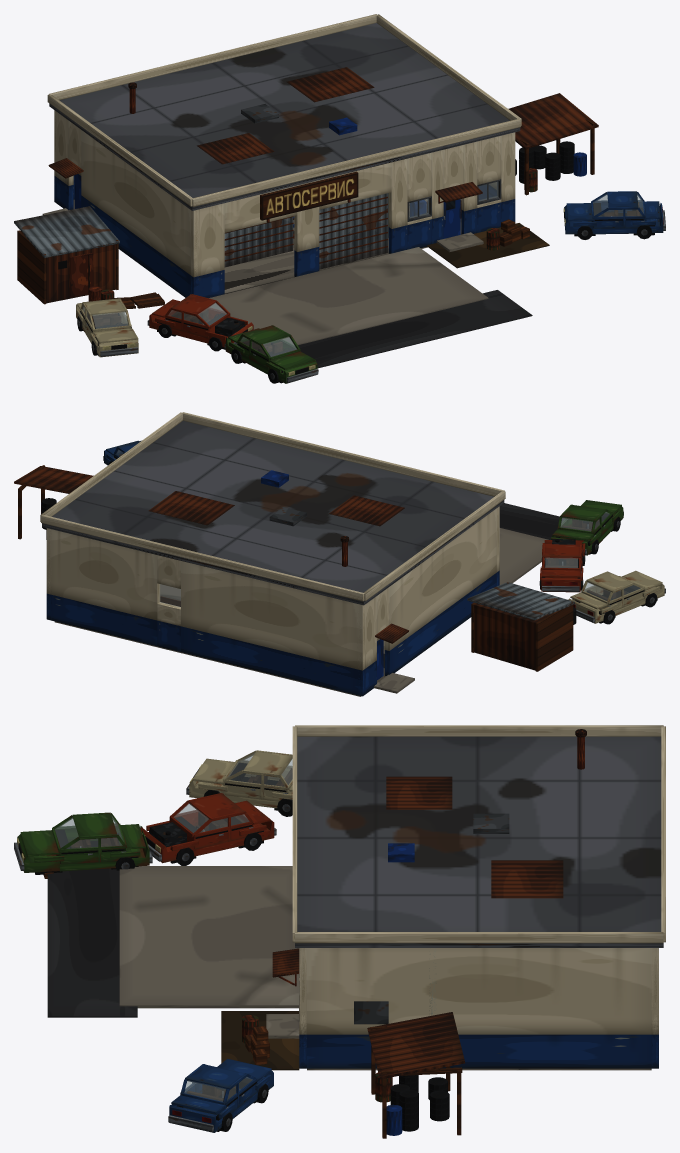
Rendered from AutoService.fbx.
3 views of the same model, one above another, from view 1: azimuth 30°, elevation 25°; view 2: azimuth 150°, elevation 25°; view 3: azimuth 270°, elevation 25° (orthographic). The views are drawn at different scales.
Parts seen in each view (by area): view 1: AS_Roof, AS_Building, AS_Apron, AS_StorageShed, AS_TireShed, AS_Door_Garage_L, AS_Car_Orange_Body, AS_Car_Blue_Body, AS_Sign, AS_Car_Green_Body, AS_Door_Garage_R, AS_Car_Beige_Body (+6 smaller); view 2: AS_Roof, AS_Building, AS_StorageShed, AS_Apron, AS_Car_Beige_Body, AS_Car_Orange_Body, AS_TireShed, AS_Car_Green_Body; view 3: AS_Roof, AS_Building, AS_Apron, AS_TireShed, AS_Car_Orange_Body, AS_Car_Green_Body, AS_Car_Blue_Body, AS_Car_Beige_Body, AS_Crates, AS_Car_Orange_Glass, AS_Car_Green_Glass, AS_Car_Green_Hood (+3 smaller).
Part boxes in pixels (<box>): AS_Roof: <box>47,14,521,210</box>; AS_Building: <box>42,110,515,298</box>; AS_Apron: <box>209,223,549,368</box>; AS_StorageShed: <box>14,206,119,304</box>; AS_TireShed: <box>508,93,598,195</box>; AS_Door_Garage_L: <box>319,193,387,269</box>; AS_Car_Orange_Body: <box>147,294,253,351</box>; AS_Car_Blue_Body: <box>563,191,665,239</box>; AS_Sign: <box>260,171,358,222</box>; AS_Car_Green_Body: <box>224,325,318,383</box>; AS_Door_Garage_R: <box>224,216,293,267</box>; AS_Car_Beige_Body: <box>76,298,138,357</box>; AS_Roof: <box>40,412,505,605</box>; AS_Building: <box>46,506,499,696</box>; AS_StorageShed: <box>467,582,574,671</box>; AS_Apron: <box>499,503,564,584</box>; AS_Car_Beige_Body: <box>568,571,665,624</box>; AS_Car_Orange_Body: <box>539,539,585,592</box>; AS_TireShed: <box>14,465,93,539</box>; AS_Car_Green_Body: <box>551,504,623,555</box>; AS_Roof: <box>292,725,665,947</box>; AS_Building: <box>266,948,658,1070</box>; AS_Apron: <box>47,866,299,1070</box>; AS_TireShed: <box>367,1012,465,1138</box>; AS_Car_Orange_Body: <box>140,793,276,865</box>; AS_Car_Green_Body: <box>14,812,152,878</box>; AS_Car_Blue_Body: <box>168,1064,273,1132</box>; AS_Car_Beige_Body: <box>186,750,292,816</box>; AS_Crates: <box>242,1015,269,1064</box>; AS_Car_Orange_Glass: <box>174,803,248,832</box>; AS_Car_Green_Glass: <box>55,816,122,848</box>; AS_Car_Green_Hood: <box>20,830,60,856</box>.
Size of the model in its own units: 28.25 by 7.32 by 21.75.
